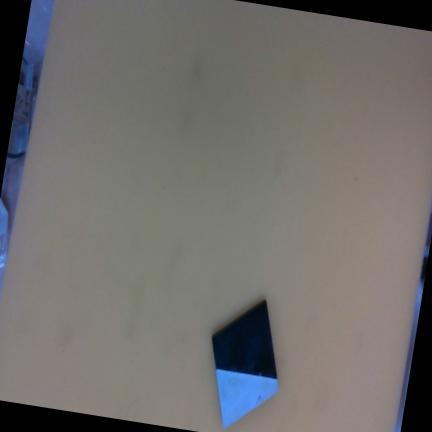tile: (206, 300, 284, 430)
